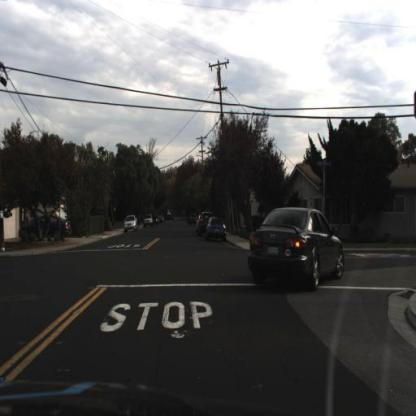car: (249, 206, 349, 288), (19, 212, 72, 240), (207, 215, 229, 244), (205, 217, 228, 240), (196, 209, 208, 238), (124, 213, 140, 233), (142, 210, 157, 231)
